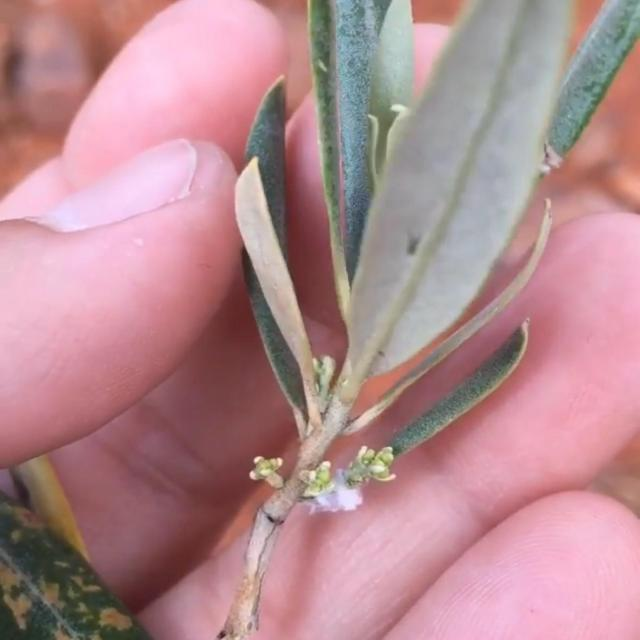Psyllid: (302, 446, 395, 512)
